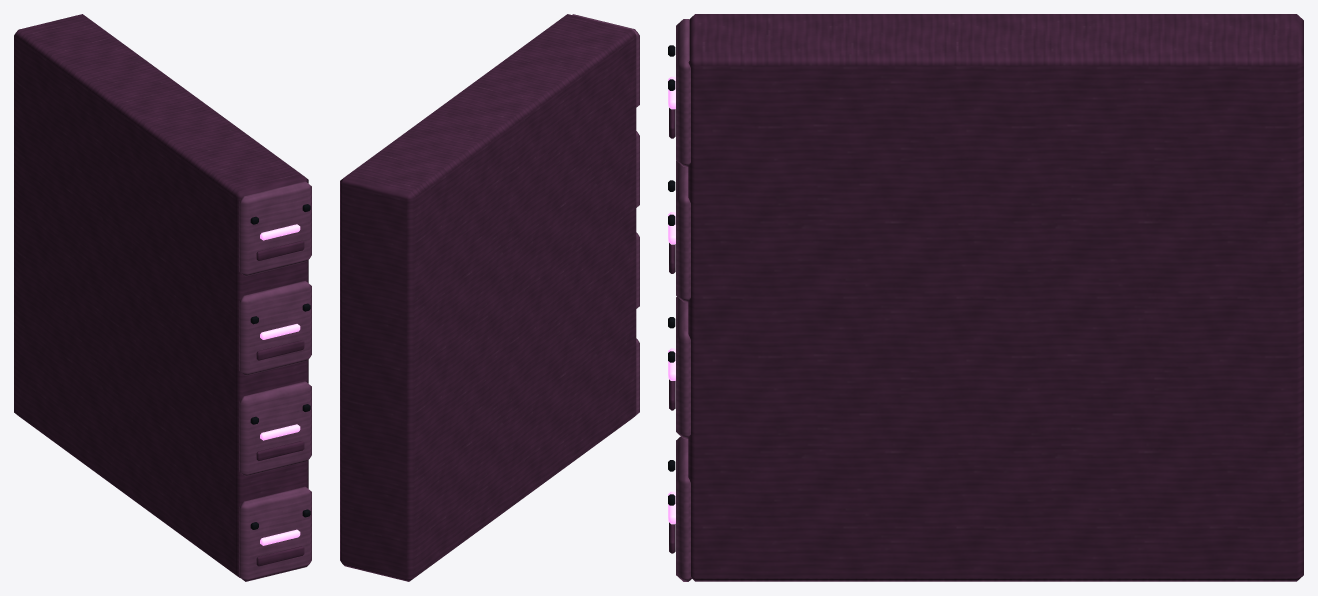
Rendered from biolab_wall.glb.
3 renders of one model, left to right at view 1: azimuth 30°, elevation 25°; view 2: azimuth 150°, elevation 25°; view 3: azimuth 270°, elevation 25°, orthographic. The views are drawn at different scales.
Parts seen in each view (by area): view 1: biolab_wall - biolab panels, biolab_wall - biolab trim, biolab_wall - biolab accents, biolab_wall - Recessed iron; view 2: biolab_wall - biolab panels, biolab_wall - biolab trim; view 3: biolab_wall - biolab panels, biolab_wall - biolab trim.
Boxes of the visible parts, <box> form: biolab_wall - biolab panels: <box>14,14,308,577</box>; biolab_wall - biolab trim: <box>239,181,311,581</box>; biolab_wall - biolab accents: <box>260,224,300,545</box>; biolab_wall - Recessed iron: <box>250,204,310,529</box>; biolab_wall - biolab panels: <box>340,14,636,581</box>; biolab_wall - biolab trim: <box>572,14,639,414</box>; biolab_wall - biolab panels: <box>669,14,1303,581</box>; biolab_wall - biolab trim: <box>676,19,691,581</box>.
Bounding box in the file's own units: 0.79 × 4.01 × 4.39.
4 materials, 3 textured.
